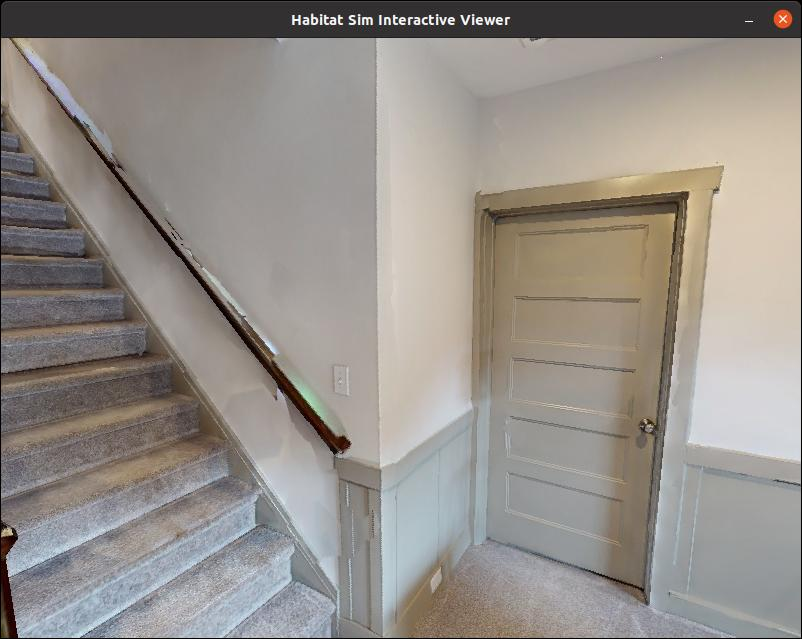door: (481, 203, 691, 579)
door-frame: (466, 161, 731, 617)
stairs: (0, 39, 377, 639)
